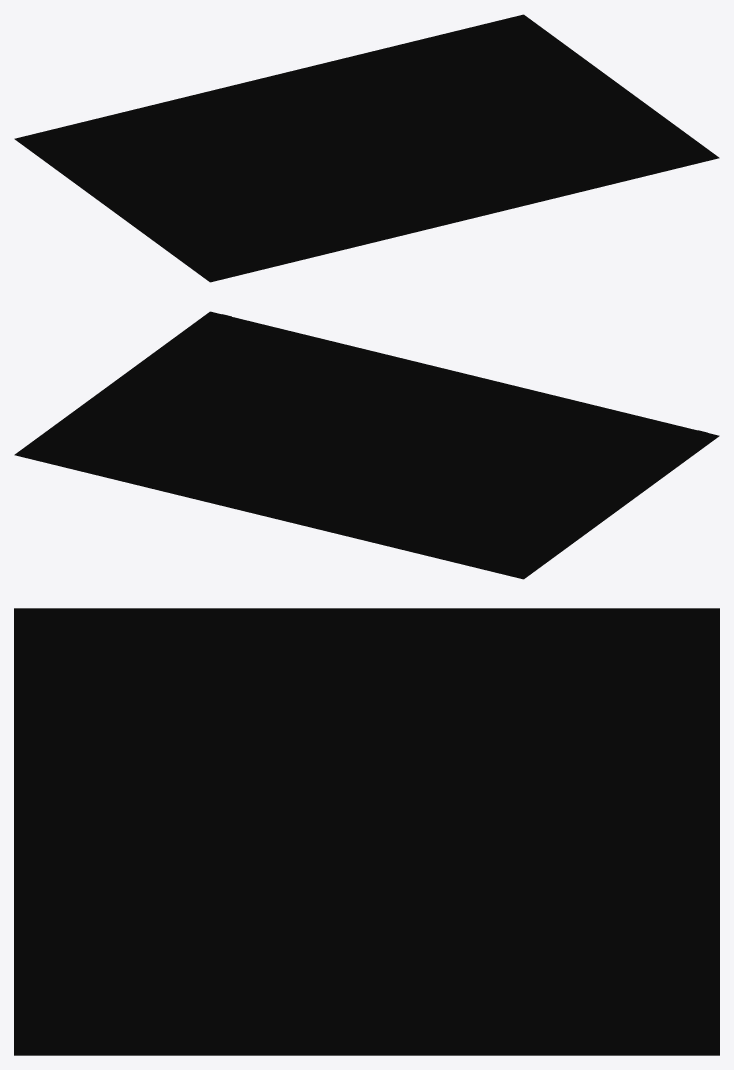
Rendered from SM_road_cracked.fbx.
The picture shows the model from 3 angles, top to bottom: view 1: azimuth 30°, elevation 25°; view 2: azimuth 150°, elevation 25°; view 3: azimuth 270°, elevation 25°; orthographic projection. The views are drawn at different scales.
Visible parts, largest first — view 1: road_cracked; view 2: road_cracked; view 3: road_cracked.
Part boxes in pixels (<box>): road_cracked: <box>14,14,719,282</box>; road_cracked: <box>14,311,719,579</box>; road_cracked: <box>14,608,719,1055</box>.
Size of the model in its own units: 6 by 0.0035 by 4.
